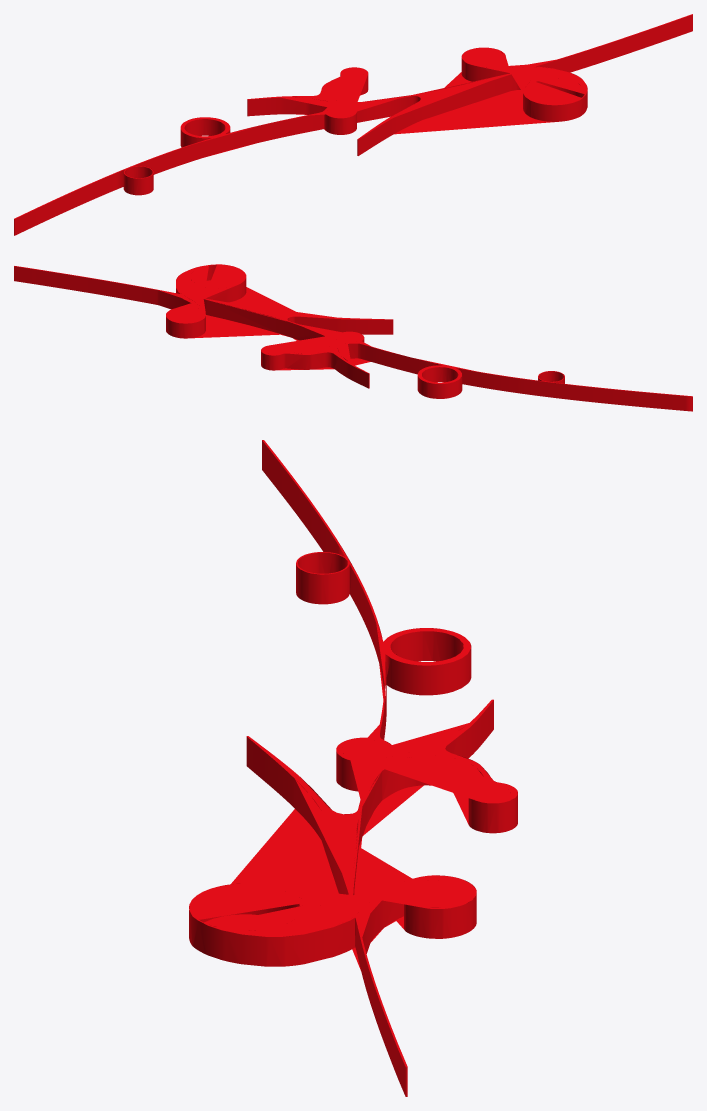
The model's file is SunPathMesh.fbx.
The picture shows the model from 3 angles, top to bottom: view 1: azimuth 30°, elevation 25°; view 2: azimuth 150°, elevation 25°; view 3: azimuth 270°, elevation 25°; orthographic projection. The views are drawn at different scales.
Parts seen in each view (by area): view 1: Curve; view 2: Curve; view 3: Curve.
Part boxes in pixels (x1=…): Curve: x1=14, y1=14, x2=692, y2=235; Curve: x1=14, y1=264, x2=692, y2=411; Curve: x1=189, y1=440, x2=517, y2=1096.
Bounding box in the file's own units: 9031 × 200 × 2001.
